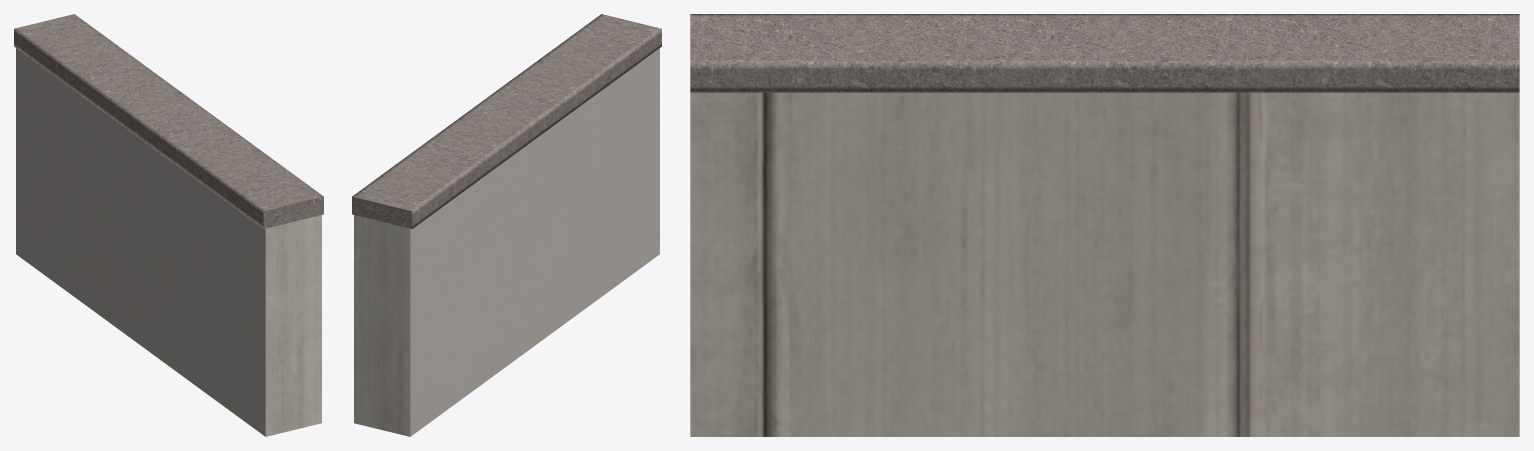
The model's file is BuildingD_Ledge_VarA_mdl.fbx.
The picture shows the model from 3 angles, left to right: view 1: azimuth 30°, elevation 25°; view 2: azimuth 150°, elevation 25°; view 3: azimuth 270°, elevation 25°; orthographic projection. The views are drawn at different scales.
Visible parts, largest first — view 1: BuildingD_Ledge_VarA_LOD0; view 2: BuildingD_Ledge_VarA_LOD0; view 3: BuildingD_Ledge_VarA_LOD0.
Boxes of the visible parts, x1,y1,x2,y2 form: BuildingD_Ledge_VarA_LOD0: [14, 14, 323, 436]; BuildingD_Ledge_VarA_LOD0: [352, 14, 661, 436]; BuildingD_Ledge_VarA_LOD0: [690, 14, 1519, 436].
Size of what is drawn, in the model's own units: 55.96 by 200 by 400.
